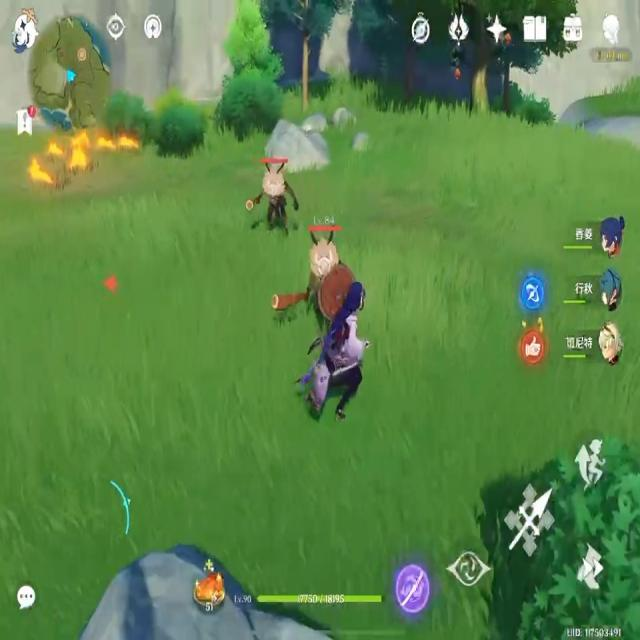genshin-hilichurls: (272, 235, 346, 305), (244, 154, 304, 232)
